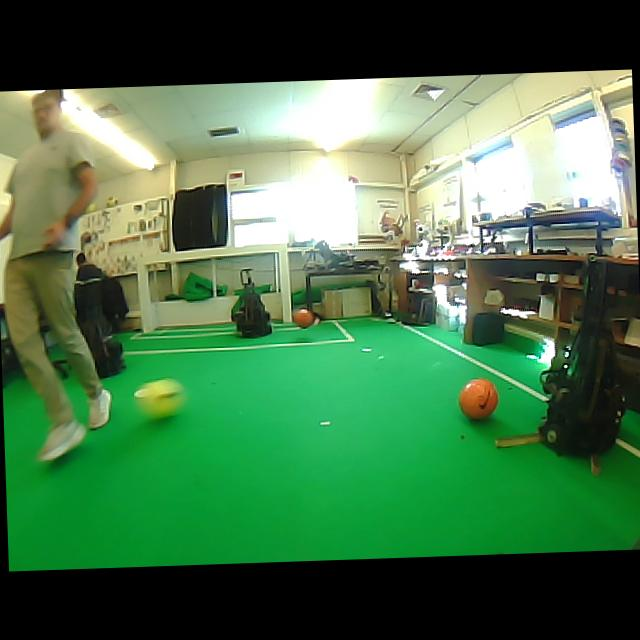ball: (133, 378, 185, 418), (459, 377, 497, 419), (293, 308, 314, 328), (106, 196, 118, 207), (85, 203, 96, 212)
goal: (138, 261, 154, 331), (278, 243, 291, 322)
robot: (539, 259, 625, 454), (76, 306, 125, 378), (232, 268, 270, 337)
